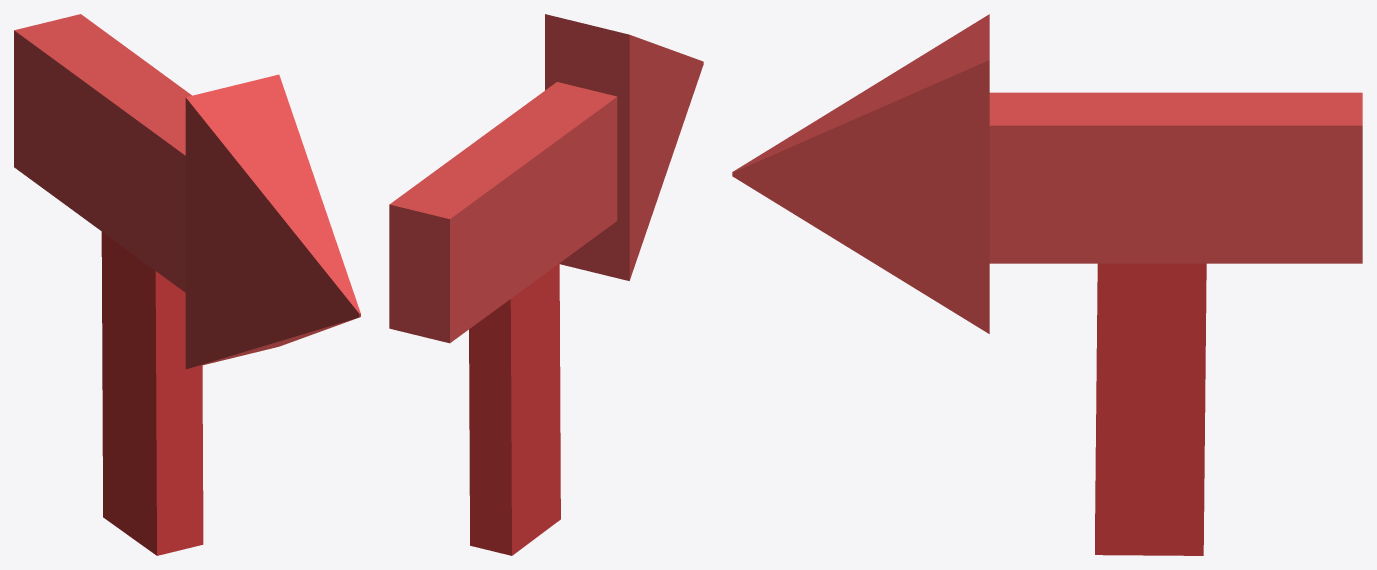
Rendered from Arrow1.fbx.
3 renders of one model, left to right at view 1: azimuth 30°, elevation 25°; view 2: azimuth 150°, elevation 25°; view 3: azimuth 270°, elevation 25°, orthographic. The views are drawn at different scales.
Parts seen in each view (by area): view 1: pCube2, pCube1, pCube3; view 2: pCube1, pCube3, pCube2; view 3: pCube1, pCube2, pCube3.
Boxes of the visible parts, x1,y1,x2,y2 form: pCube2: (185,74,360,369); pCube1: (14,14,191,292); pCube3: (101,232,203,555); pCube1: (389,82,617,343); pCube3: (469,263,560,555); pCube2: (545,14,703,280); pCube1: (989,92,1362,263); pCube2: (732,14,989,333); pCube3: (1095,263,1206,555).
Bounding box in the file's own units: 91.54 × 471 × 530.
